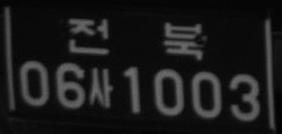0: (153, 67, 185, 117), (191, 69, 222, 119), (19, 59, 49, 107)
1: (120, 66, 146, 113)
3: (229, 72, 260, 122)
6: (54, 60, 85, 110)
사: (88, 67, 113, 108)
전북_D: (67, 17, 204, 60)
